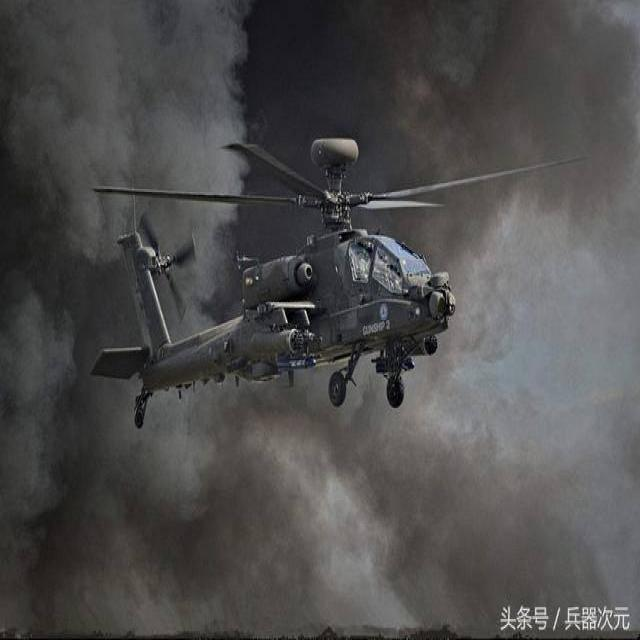MIL_HELO: (68, 117, 600, 445)
